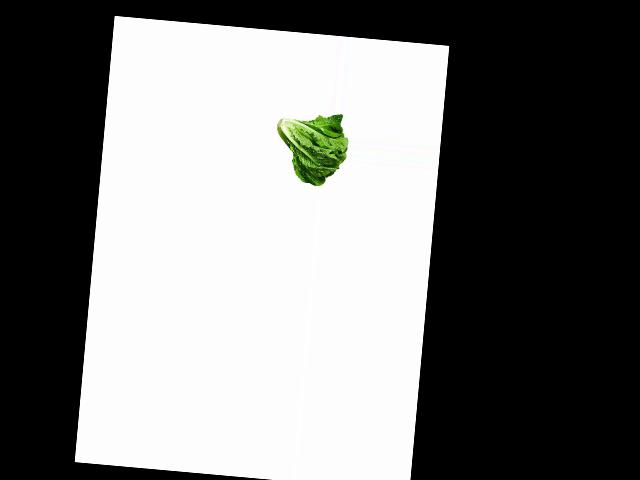lettuce: (268, 109, 351, 189)
